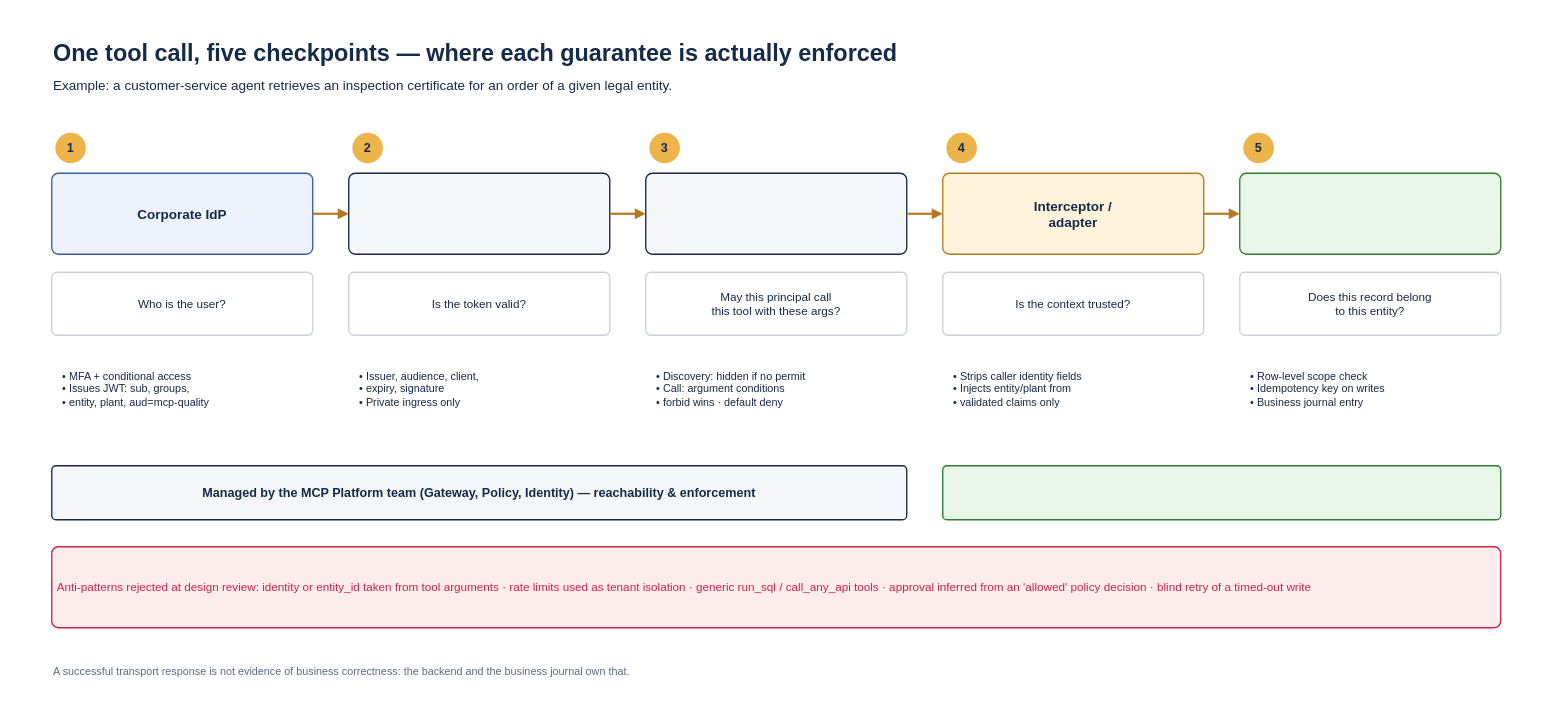
The diagram is 1561 pixels wide and 715 high, and some of its shapes have lost their labels. Each missing label, with the box of its shape:
AgentCore Gateway (inbound authorizer): (348, 172, 610, 255)
AgentCore Policy (Cedar): (645, 172, 907, 255)
Owned by the domain team — shape, correctness, isolation: (942, 465, 1501, 520)
System of record (ERP / LIMS): (1239, 172, 1501, 255)
